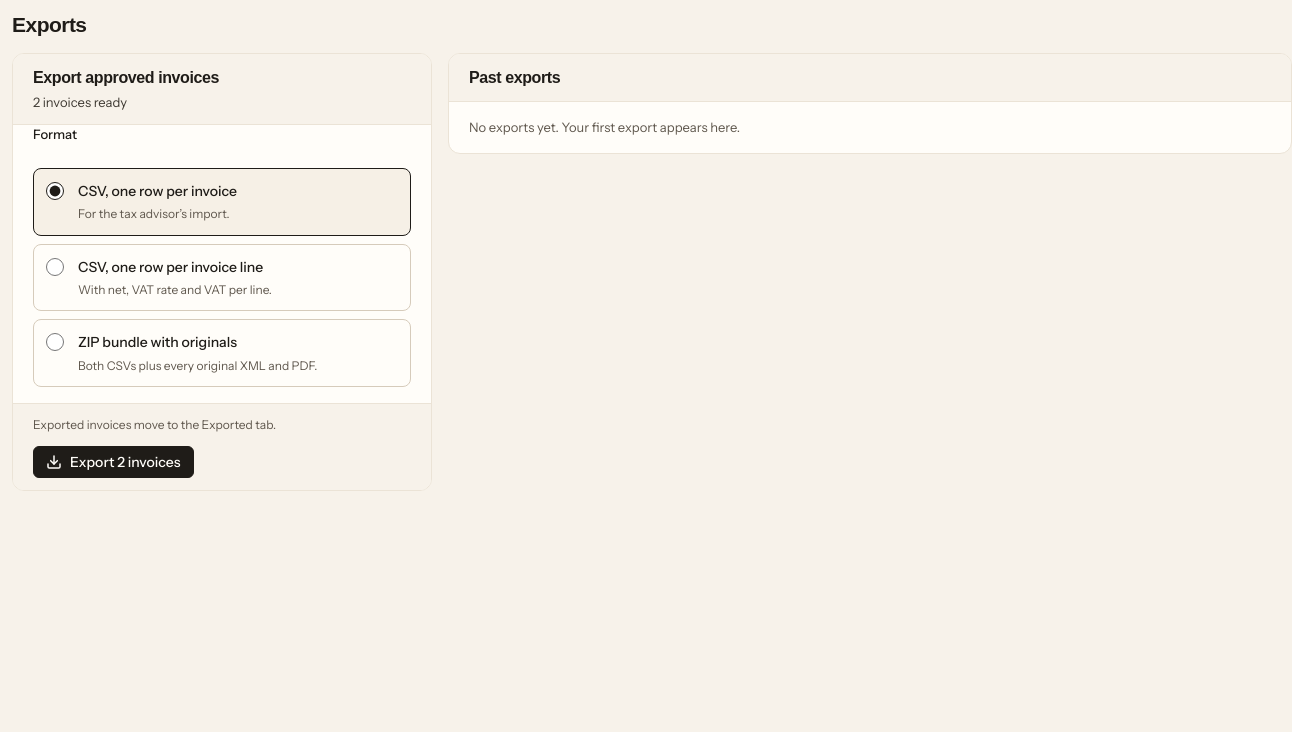
Test: ExportsView creating an export › explains NOTHING_TO_EXPORT
The image size is (1292, 732).
Click the button "Export 2 invoices" at (113, 462), box [33,446,194,478]
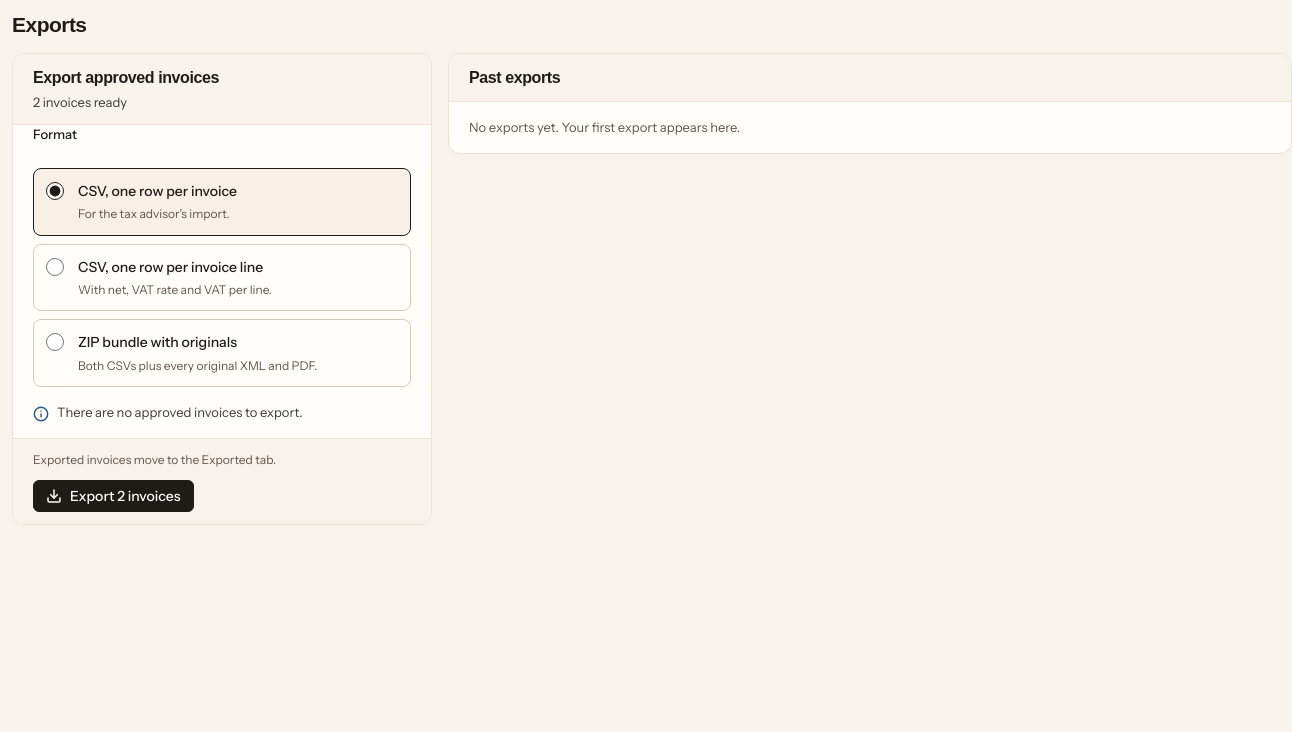
Result: the message "There are no approved invoices to export." is shown at [33,404,302,422]
